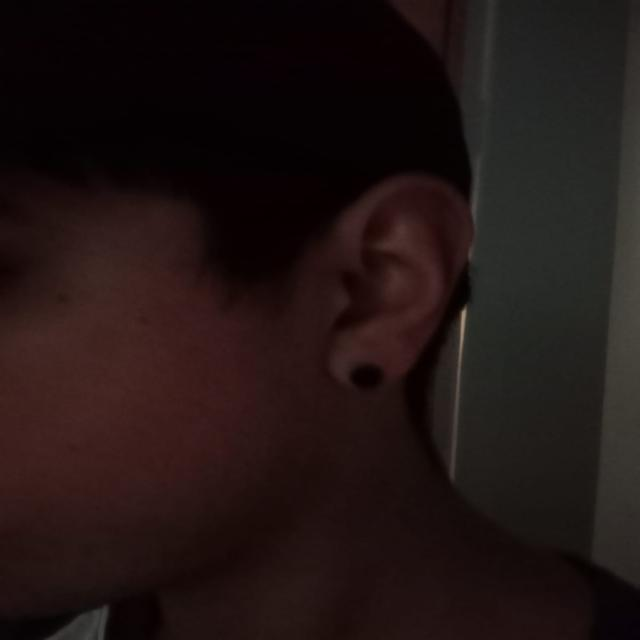ear: (324, 174, 473, 384)
